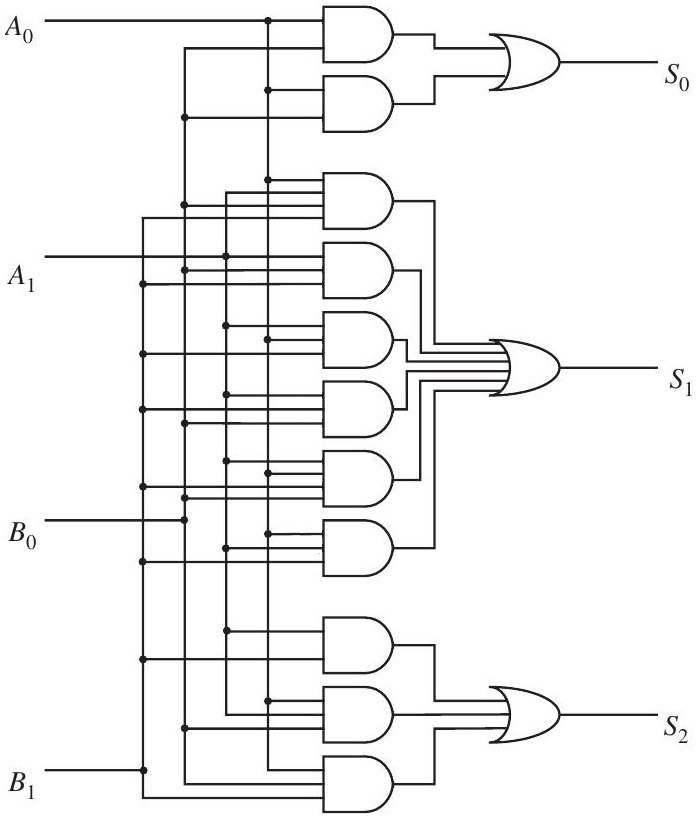and: (315, 514, 397, 583), (316, 166, 399, 234), (316, 749, 399, 817), (315, 611, 397, 679), (315, 69, 397, 137), (316, 681, 399, 748), (316, 444, 399, 511), (316, 1, 399, 67), (315, 236, 397, 302), (316, 375, 396, 442), (317, 307, 398, 373)
or: (484, 680, 568, 753), (484, 27, 568, 100), (486, 332, 566, 404)
